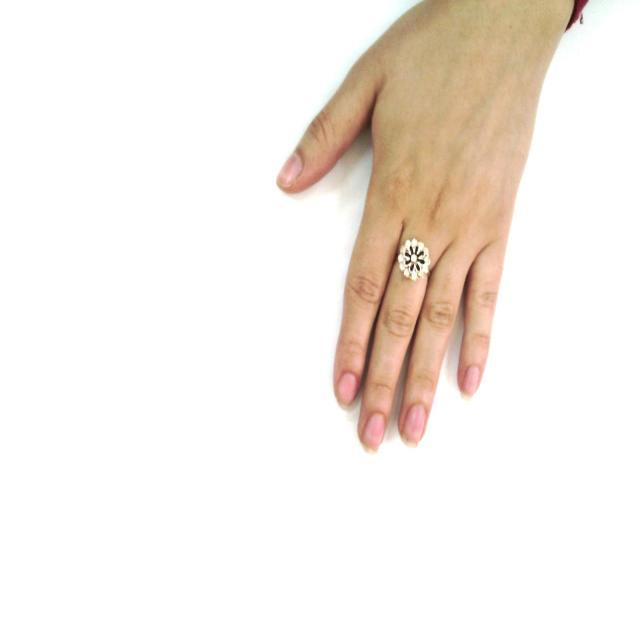Fingernail: (401, 405, 423, 445), (364, 414, 384, 451), (278, 154, 301, 185), (339, 373, 357, 404), (463, 367, 479, 395)
